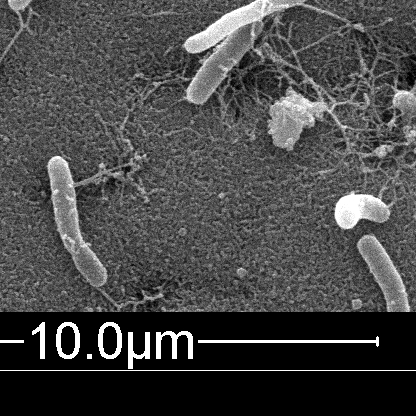cell2surface: (299, 1, 373, 38), (78, 153, 139, 194)
curved: (339, 194, 389, 231)
filament: (47, 155, 108, 285), (184, 0, 310, 53), (358, 233, 410, 309)
regular: (186, 16, 273, 105), (10, 0, 76, 13)
